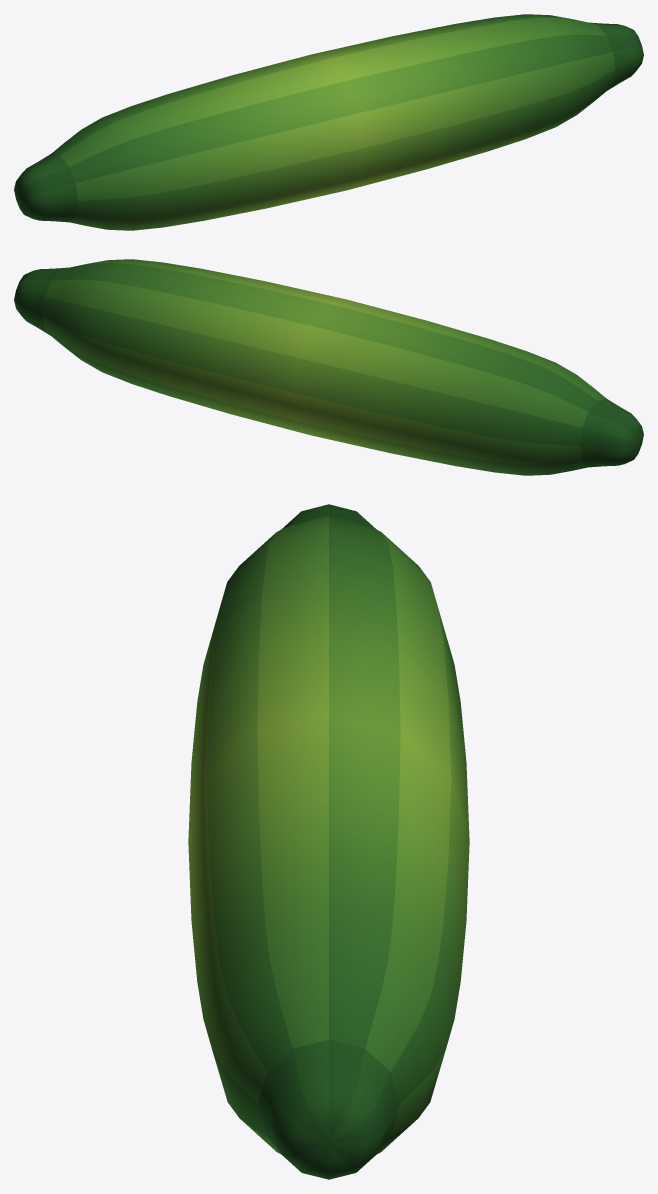
Rendered from Cucumber_01.glb.
3 renders of one model, top to bottom at view 1: azimuth 30°, elevation 25°; view 2: azimuth 150°, elevation 25°; view 3: azimuth 270°, elevation 25°, orthographic. The views are drawn at different scales.
Parts seen in each view (by area): view 1: Cucumber_01; view 2: Cucumber_01; view 3: Cucumber_01.
Boxes of the visible parts, x1,y1,x2,y2 form: Cucumber_01: (14,14,643,230); Cucumber_01: (14,259,643,475); Cucumber_01: (188,504,469,1179).
Size of the model in its own units: 1 by 0.1981 by 0.1981.
Materials: 1 (1 with a texture image).
